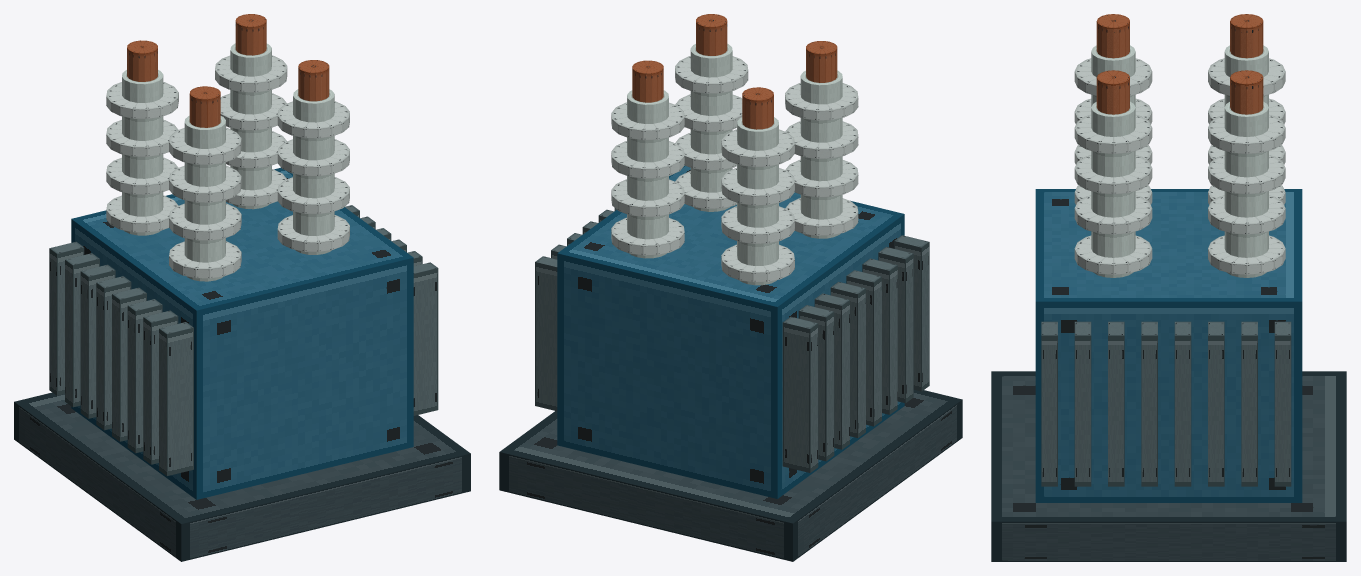
The model's file is detail_transformer.obj.
The picture shows the model from 3 angles, left to right: view 1: azimuth 30°, elevation 25°; view 2: azimuth 150°, elevation 25°; view 3: azimuth 270°, elevation 25°; orthographic projection. The views are drawn at different scales.
Size of the model in its own units: 2 by 2.69 by 2.
